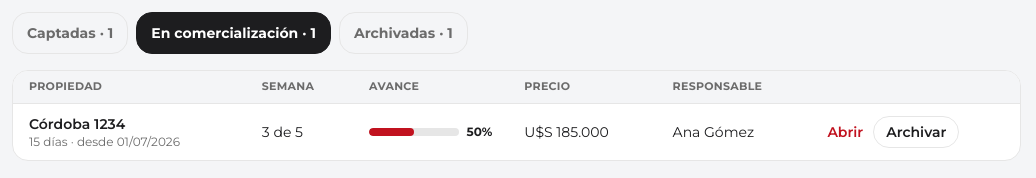
ReporteGeneral › cambia de grupo al tocar la solapa
Click the button "Captadas · 1" at (70, 33), box [12,12,128,54]
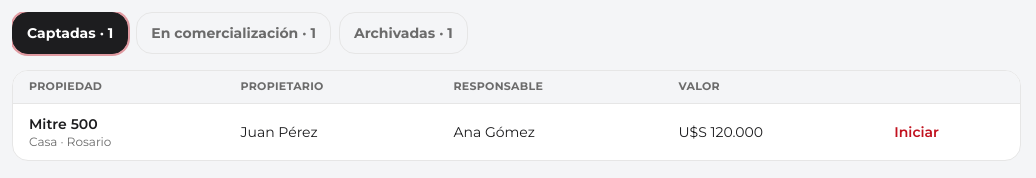
Now the text "Mitre 500" is shown, box [29,115,98,133]
Now the text "Córdoba 1234" is gone
Click the button "Archivadas · 1" at (403, 33), box [339,12,468,54]
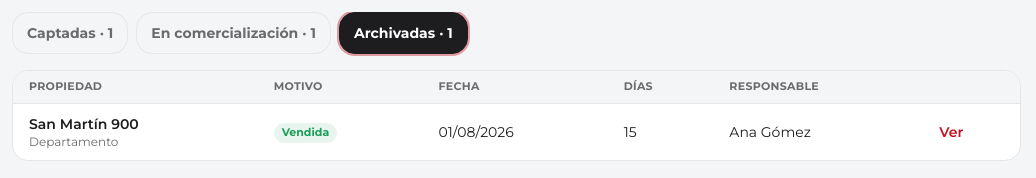
Now the text "San Martín 900" is shown, box [29,115,139,133]
Now the text "Vendida" is shown, box [274,123,337,142]
